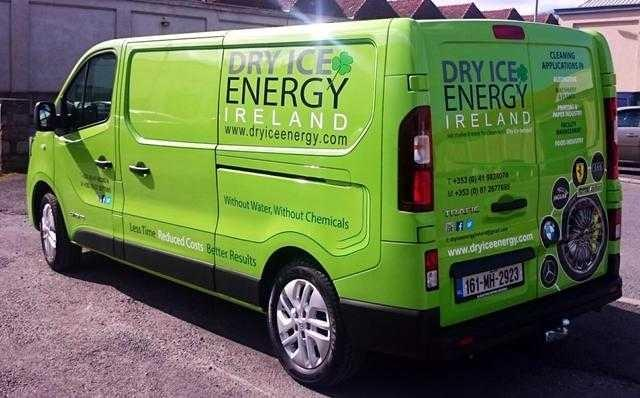car: (32, 20, 625, 377)
